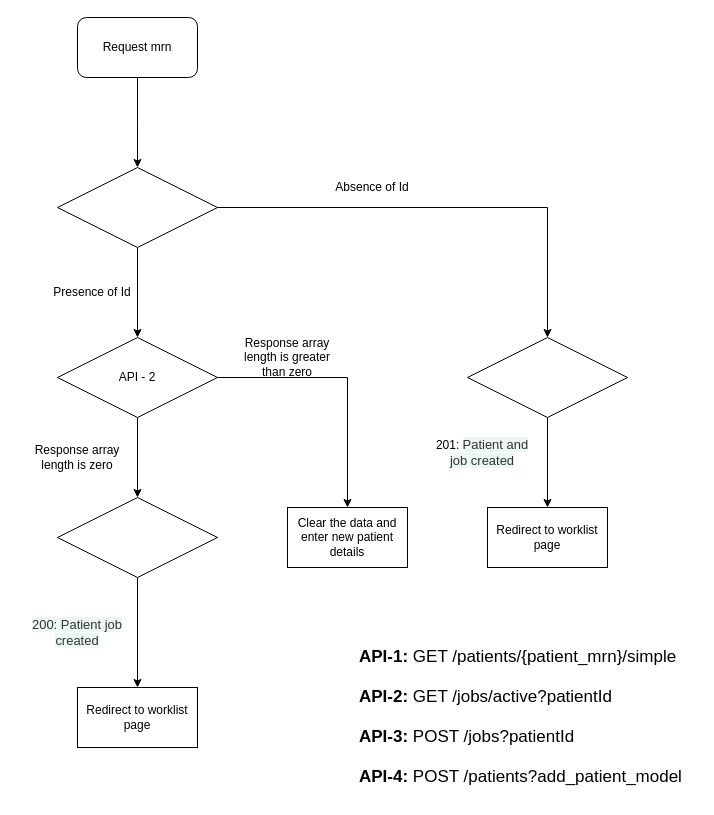
This 714x815 diagram has some shape labels left out. The box of each missing label's shape, as (x1, y1, x2, y2) in pixels:
API - 1: (56, 166, 218, 248)
API - 3: (56, 496, 218, 578)
API - 4: (466, 336, 628, 418)
